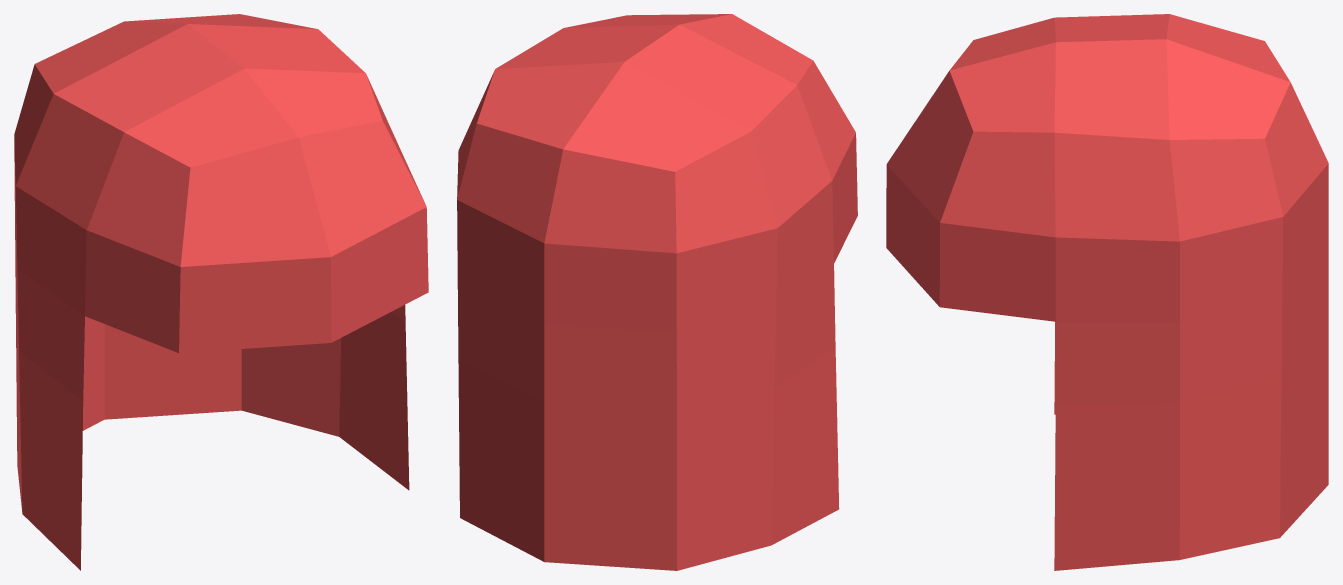
Rendered from LongHair.glb.
The picture shows the model from 3 angles, left to right: view 1: azimuth 30°, elevation 25°; view 2: azimuth 150°, elevation 25°; view 3: azimuth 270°, elevation 25°; orthographic projection. The views are drawn at different scales.
Visible parts, largest first — view 1: Hair; view 2: Hair; view 3: Hair.
Boxes of the visible parts, x1=… form: Hair: x1=14, y1=14, x2=428, y2=570; Hair: x1=457, y1=14, x2=857, y2=570; Hair: x1=886, y1=14, x2=1328, y2=570.
Bounding box in the file's own units: 0.2157 × 0.2904 × 0.2568.
1 material, 1 textured.
